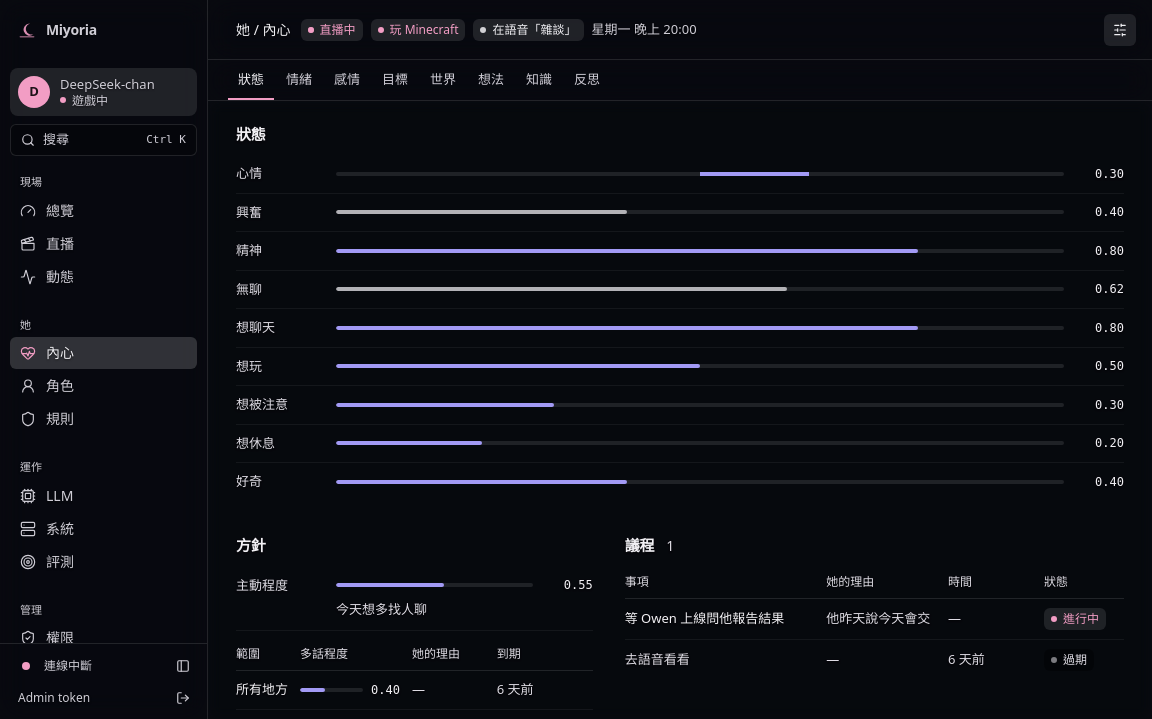
Test: Inner › lists her feelings and the world on their tabs
Click the tab "感情" at (347, 80), box [324, 60, 370, 100]
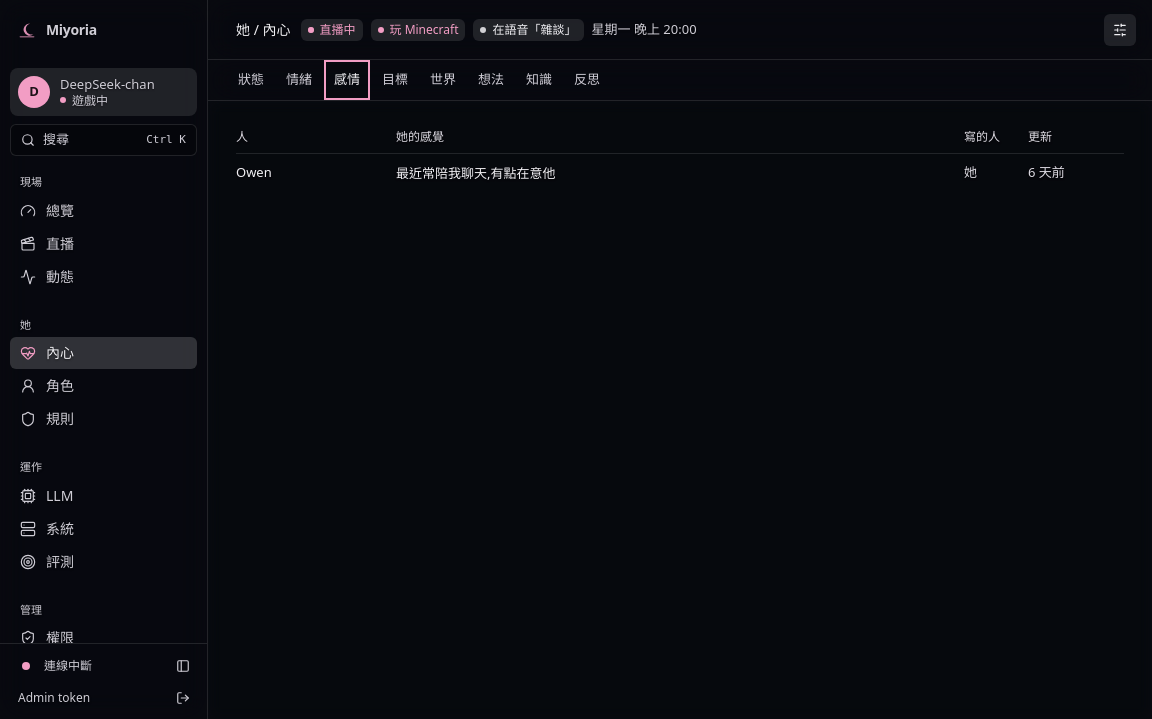
Check: the text "她" is shown, box [964, 153, 1028, 193]
Check: the text "最近常陪我聊天,有點在意他" is shown, box [396, 153, 964, 193]
Click the tab "世界" at (443, 80), box [420, 60, 466, 100]
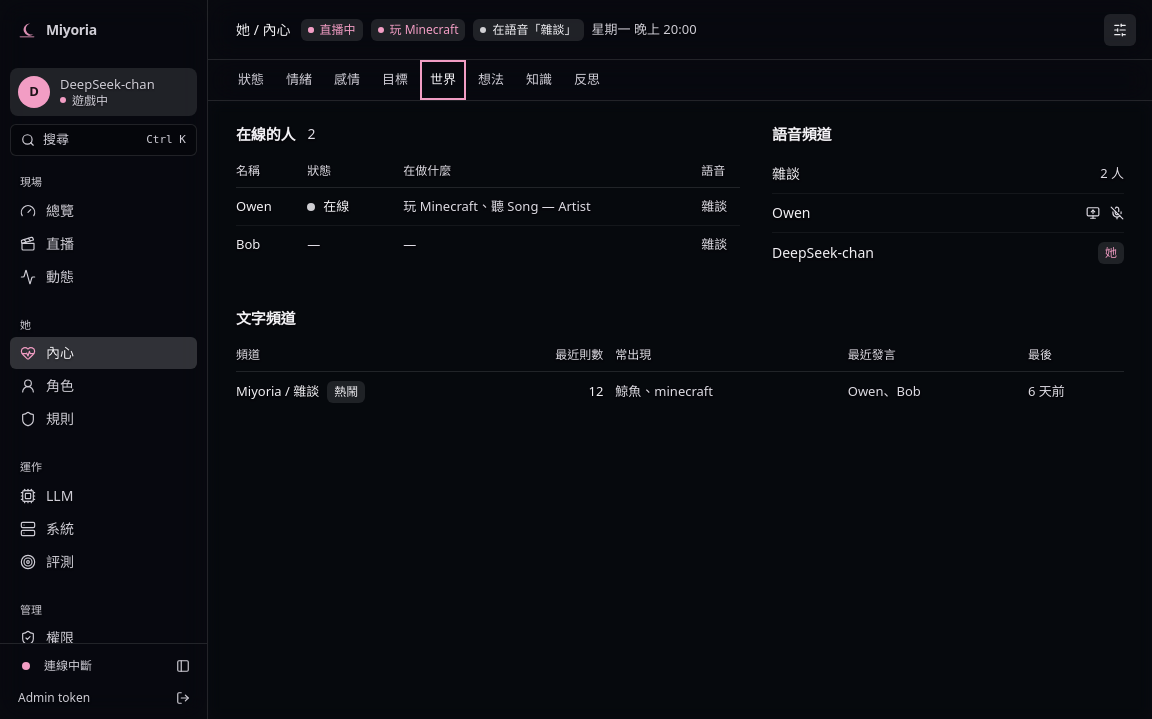
Check: the text "在線" is shown, box [307, 197, 349, 216]
Check: the text "玩 Minecraft、聽 Song — Artist" is shown, box [403, 187, 701, 226]
Check: the text "—" is shown, box [307, 235, 320, 253]
